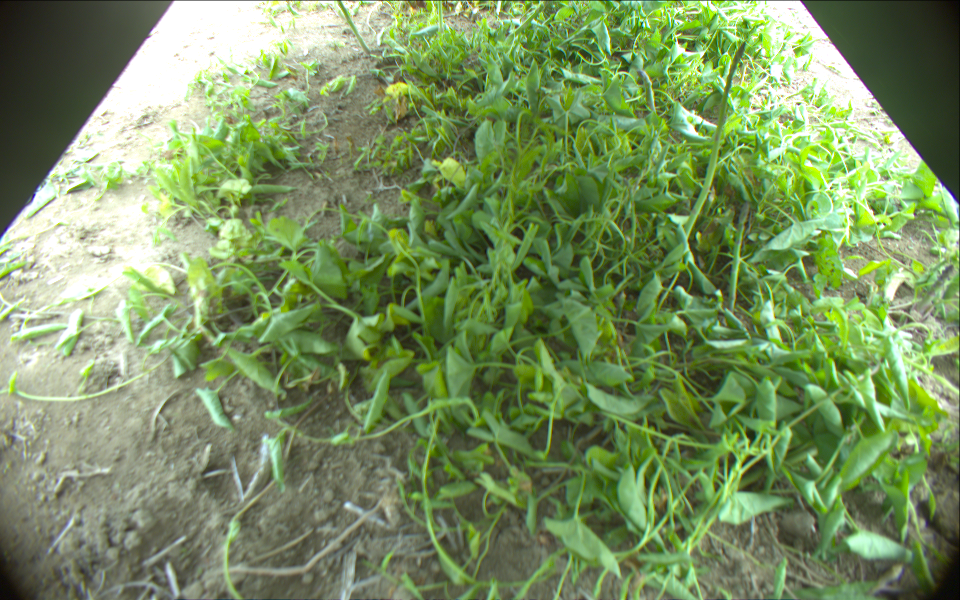aspa: (682, 40, 749, 235), (726, 201, 753, 313), (908, 263, 955, 319), (336, 1, 372, 55), (505, 3, 545, 45), (638, 69, 657, 116), (436, 1, 444, 33)
